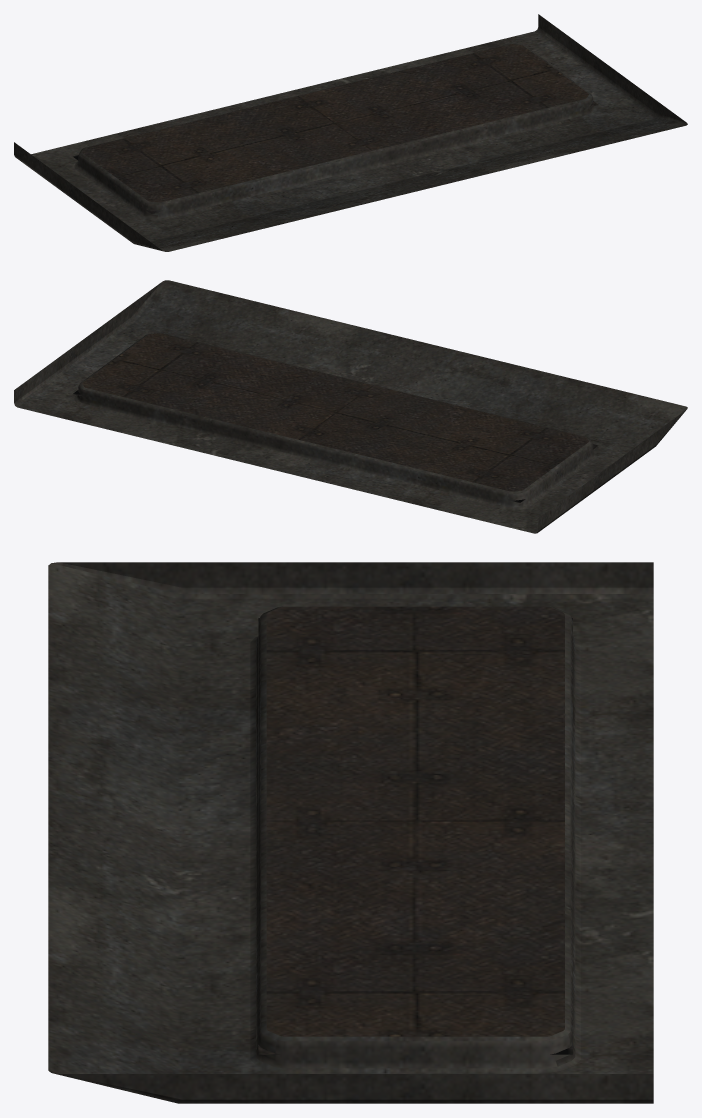
The model's file is ceiling_peace_1.dae.
3 renders of one model, top to bottom at view 1: azimuth 30°, elevation 25°; view 2: azimuth 150°, elevation 25°; view 3: azimuth 270°, elevation 25°, orthographic. The views are drawn at different scales.
Visible parts, largest first — view 1: ceiling_peace_1; view 2: ceiling_peace_1; view 3: ceiling_peace_1.
Part boxes in pixels (<box>): ceiling_peace_1: <box>14,14,687,251</box>; ceiling_peace_1: <box>14,280,687,533</box>; ceiling_peace_1: <box>48,562,653,1103</box>.
Size of the model in its own units: 3 by 1.5 by 0.09.
Materials: 3 (3 with a texture image).
